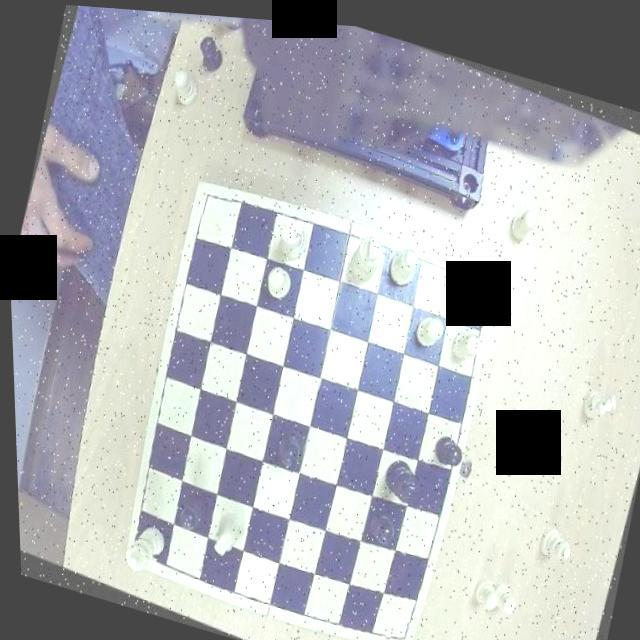chess-table-corners: (457, 258, 498, 300), (193, 181, 232, 220), (120, 528, 158, 566), (378, 608, 410, 640)
